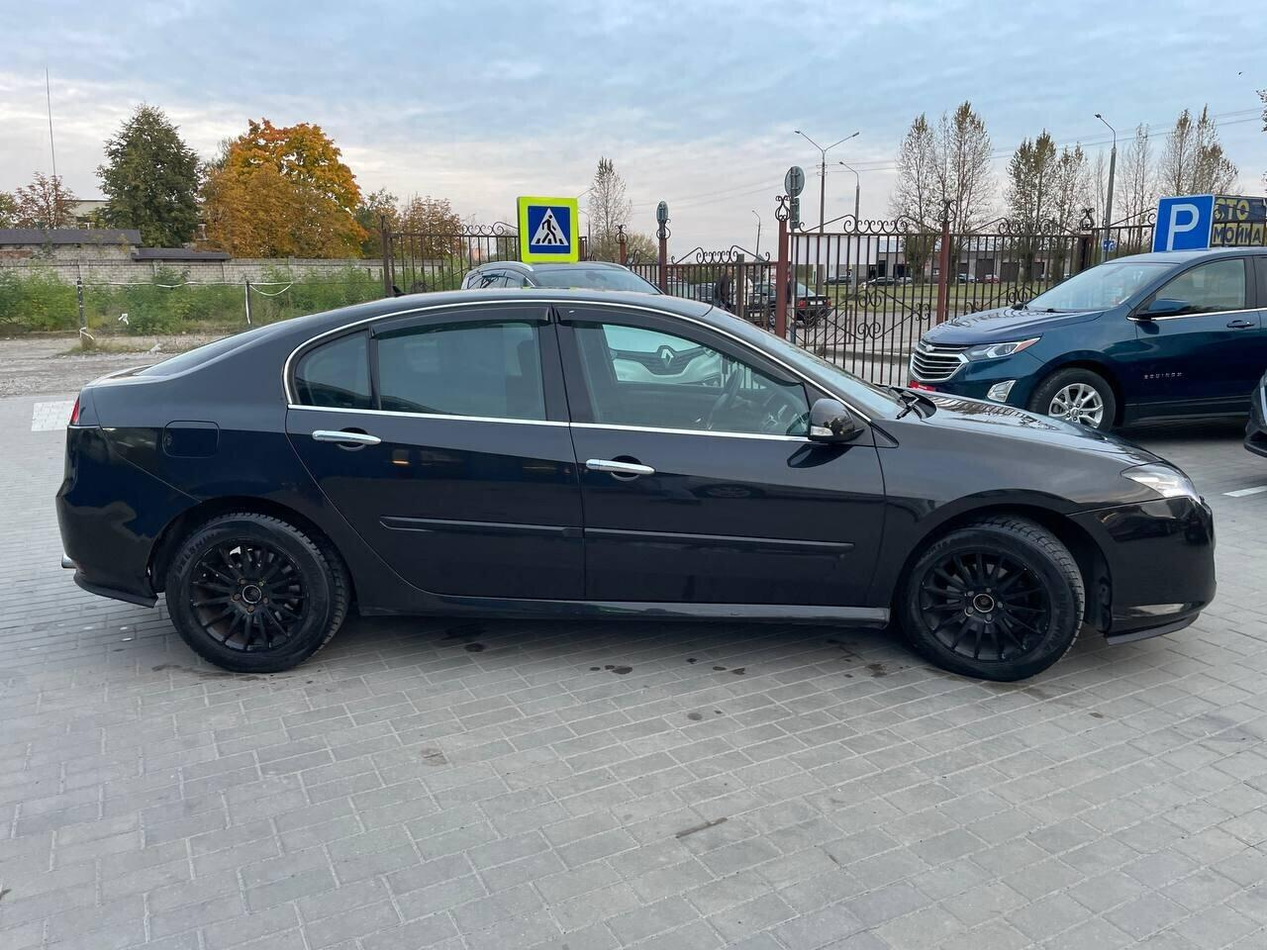Laguna_2010-2015: (51, 278, 1219, 696)
